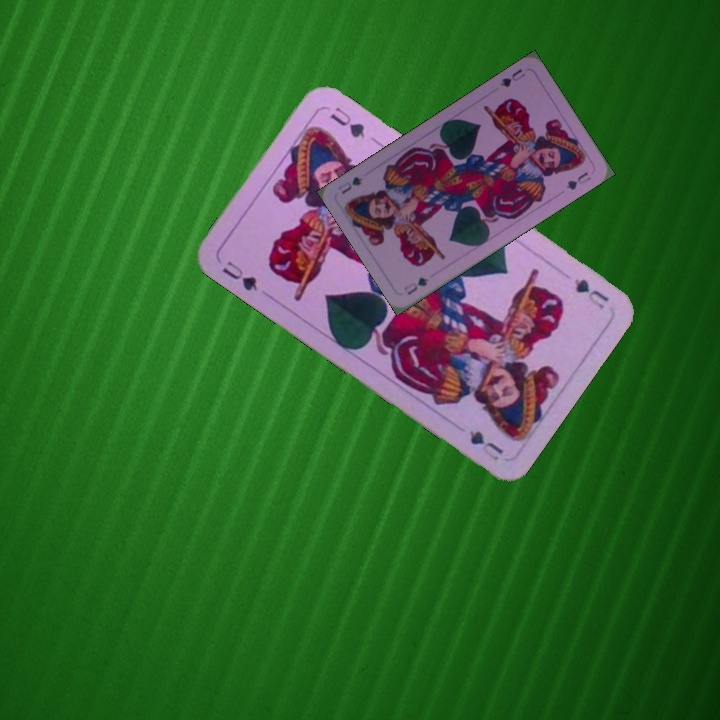GU: (218, 256, 260, 294), (570, 274, 612, 312), (496, 65, 528, 90), (400, 273, 431, 298)
